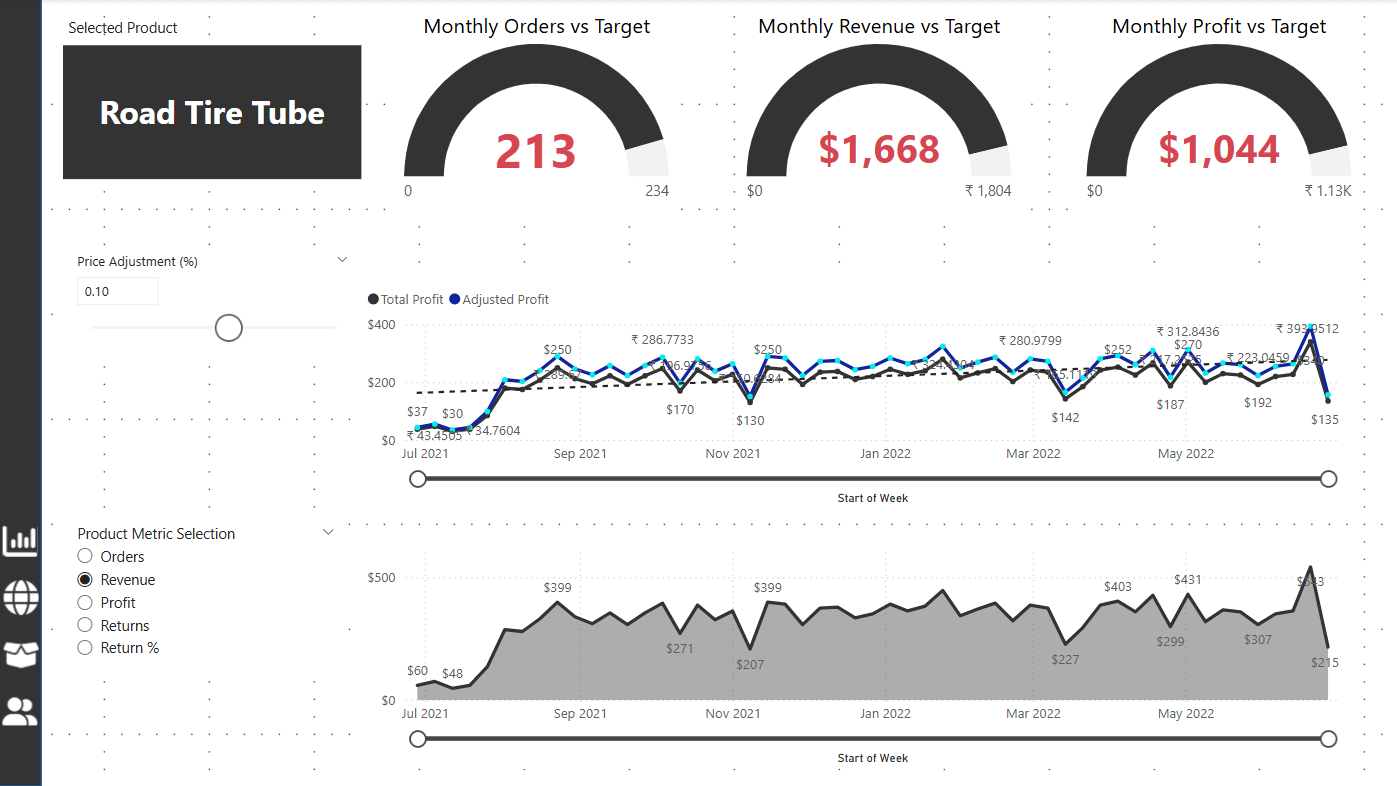

Layout of this report page (visuals, bound fields, positions):
{"tool":"powerbi","page":{"name":"Product Detail","canvas":[1280,720],"ordinal":2},"visuals":[{"type":"shape","box":[0,0,40.4,720.2],"z":0},{"type":"gauge","title":"Monthly Orders vs Target","fields":{"Y":["Measure Table.Total Orders"],"MaxValue":["Measure Table.Order Target"]},"box":[362,11,260.5,183.4],"z":1000},{"type":"gauge","title":"Monthly Revenue vs Target","fields":{"Y":["Measure Table.Total Revenue"],"MaxValue":["Measure Table.Revenue Target"]},"box":[675,11,260.5,183.4],"z":2000},{"type":"gauge","title":"Monthly Profit vs Target","fields":{"Y":["Measure Table.Total Profit"],"MaxValue":["Measure Table.Profit Target"]},"box":[986.8,11,260.5,183.4],"z":3000},{"type":"lineChart","title":" Profit Trending","fields":{"Category":["Calendar Lookup.Date Hierarchy.Start of Year","Calendar Lookup.Date Hierarchy.Start of Week","Calendar Lookup.Date Hierarchy.Date","Calendar Lookup.Date Hierarchy.Start of Month"],"Y":["Measure Table.Total Profit","Measure Table.Adjusted Profit"]},"box":[332.6,254.3,914.7,211.6],"z":4000},{"type":"areaChart","title":" Returns Trending","fields":{"Y":["Measure Table.Total Revenue"],"Category":["Calendar Lookup.Date Hierarchy.Start of Year","Calendar Lookup.Date Hierarchy.Start of Week","Calendar Lookup.Date Hierarchy.Date","Calendar Lookup.Date Hierarchy.Start of Month"]},"box":[332.6,492.8,914.7,211.6],"z":5000},{"type":"card","fields":{"Values":["Min(Product Lookup.ProductName)"]},"box":[59.9,42.8,272.7,122.3],"z":6000},{"type":"textbox","box":[59.9,11,178.5,39.1],"z":7000},{"type":"actionButton","box":[1.2,525.8,40.4,42.8],"z":8000},{"type":"actionButton","box":[1.2,578.4,40.4,42.8],"z":9000},{"type":"actionButton","box":[0,474.5,40.4,42.8],"z":10000},{"type":"actionButton","box":[0,629.8,40.4,42.8],"z":11000},{"type":"slicer","fields":{"Values":["Price Adjustment (%).Price Adjustment (%)"]},"box":[59.9,226.2,272.7,108.8],"z":12000},{"type":"slicer","fields":{"Values":["Product Metric Selection.Product Metric Selection"]},"box":[59.9,474.5,260.5,146.7],"z":13000}]}

Visuals, with their boxes on the page's 1280x720 design canvas (x1, y1, x2, y2). These are canvas units, not pixel positions in the 1397x786 screenshot, which may show the page scaled, cropped or inside an application window:
shape: box(0, 0, 40, 720)
"Monthly Orders vs Target" gauge: box(362, 11, 622, 194)
"Monthly Revenue vs Target" gauge: box(675, 11, 936, 194)
"Monthly Profit vs Target" gauge: box(987, 11, 1247, 194)
" Profit Trending" lineChart: box(333, 254, 1247, 466)
" Returns Trending" areaChart: box(333, 493, 1247, 704)
card - Min(Product Lookup.ProductName): box(60, 43, 333, 165)
textbox: box(60, 11, 238, 50)
actionButton: box(1, 526, 42, 569)
actionButton: box(1, 578, 42, 621)
actionButton: box(0, 474, 40, 517)
actionButton: box(0, 630, 40, 673)
slicer - Price Adjustment (%).Price Adjustment (%): box(60, 226, 333, 335)
slicer - Product Metric Selection.Product Metric Selection: box(60, 474, 320, 621)
